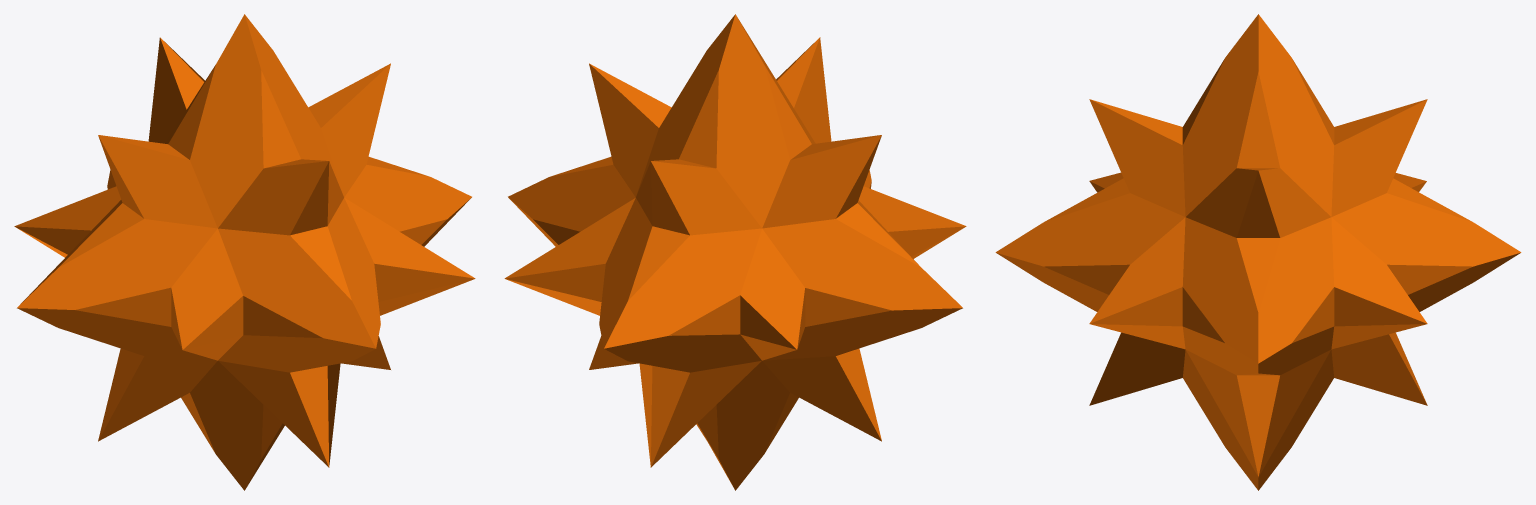
The model's file is AreaDamage.fbx.
The picture shows the model from 3 angles, left to right: view 1: azimuth 30°, elevation 25°; view 2: azimuth 150°, elevation 25°; view 3: azimuth 270°, elevation 25°; orthographic projection.
Parts seen in each view (by area): view 1: AreaDamage; view 2: AreaDamage; view 3: AreaDamage.
Boxes of the visible parts, <box> form: AreaDamage: <box>14,14,475,490</box>; AreaDamage: <box>504,14,966,490</box>; AreaDamage: <box>995,14,1521,490</box>.
Bounding box in the file's own units: 298 × 298 × 298.
